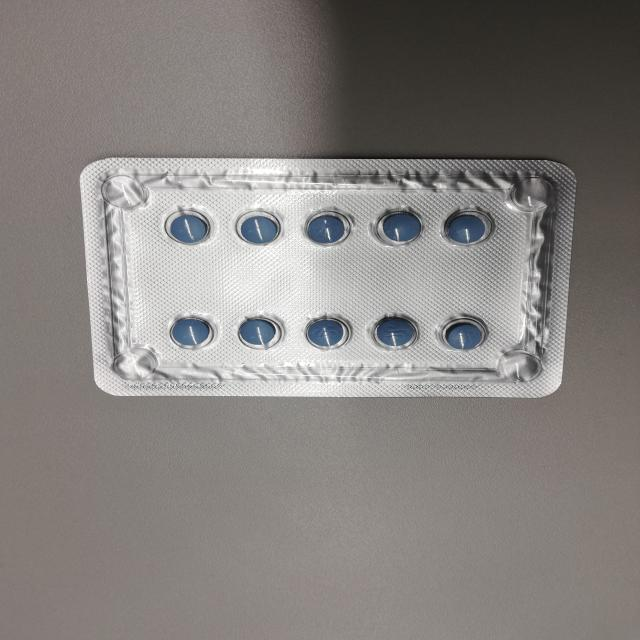Pill: (158, 297, 234, 360), (148, 192, 220, 251), (435, 197, 504, 256), (291, 304, 363, 360), (361, 306, 432, 360), (368, 198, 429, 260), (432, 308, 498, 361), (230, 303, 290, 361), (231, 205, 289, 257), (302, 202, 354, 255)
